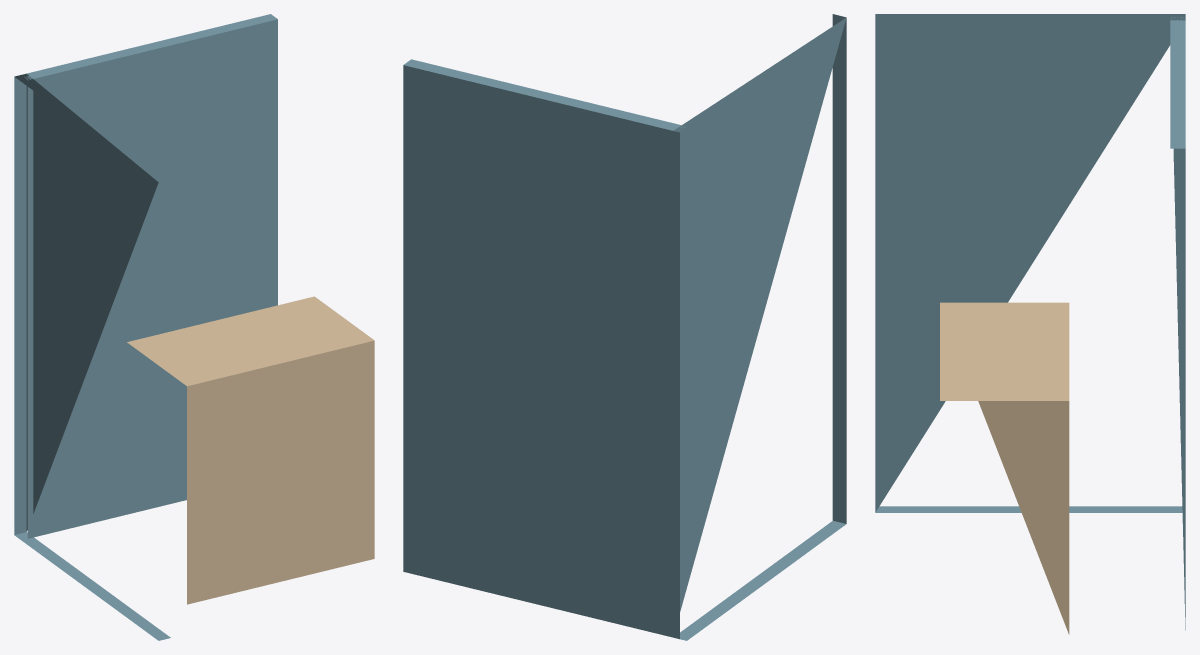
Rendered from corner-booth.glb.
3 renders of one model, left to right at view 1: azimuth 30°, elevation 25°; view 2: azimuth 150°, elevation 25°; view 3: azimuth 270°, elevation 25°, orthographic. The views are drawn at different scales.
Bounding box in the file's own units: 1.23 × 2.1 × 1.2.
